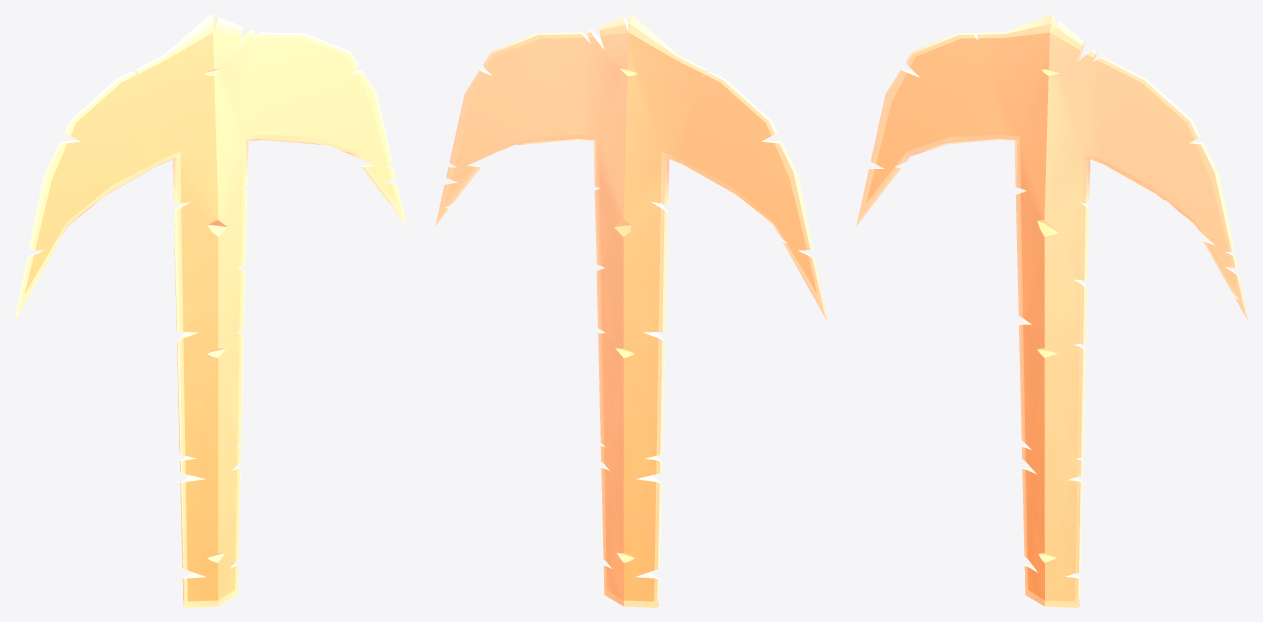
The model's file is wood_blade_scratched_070.glb.
The picture shows the model from 3 angles, left to right: view 1: azimuth 30°, elevation 25°; view 2: azimuth 150°, elevation 25°; view 3: azimuth 330°, elevation 25°; orthographic projection.
Parts seen in each view (by area): view 1: wood_blade_scratched.070; view 2: wood_blade_scratched.070; view 3: wood_blade_scratched.070.
Part boxes in pixels (bbox=[...]): wood_blade_scratched.070: bbox=[14, 14, 406, 607]; wood_blade_scratched.070: bbox=[435, 14, 827, 607]; wood_blade_scratched.070: bbox=[856, 14, 1248, 607].
Bounding box in the file's own units: 8.24 × 11.78 × 0.5822.
Materials: 1 (1 with a texture image).
